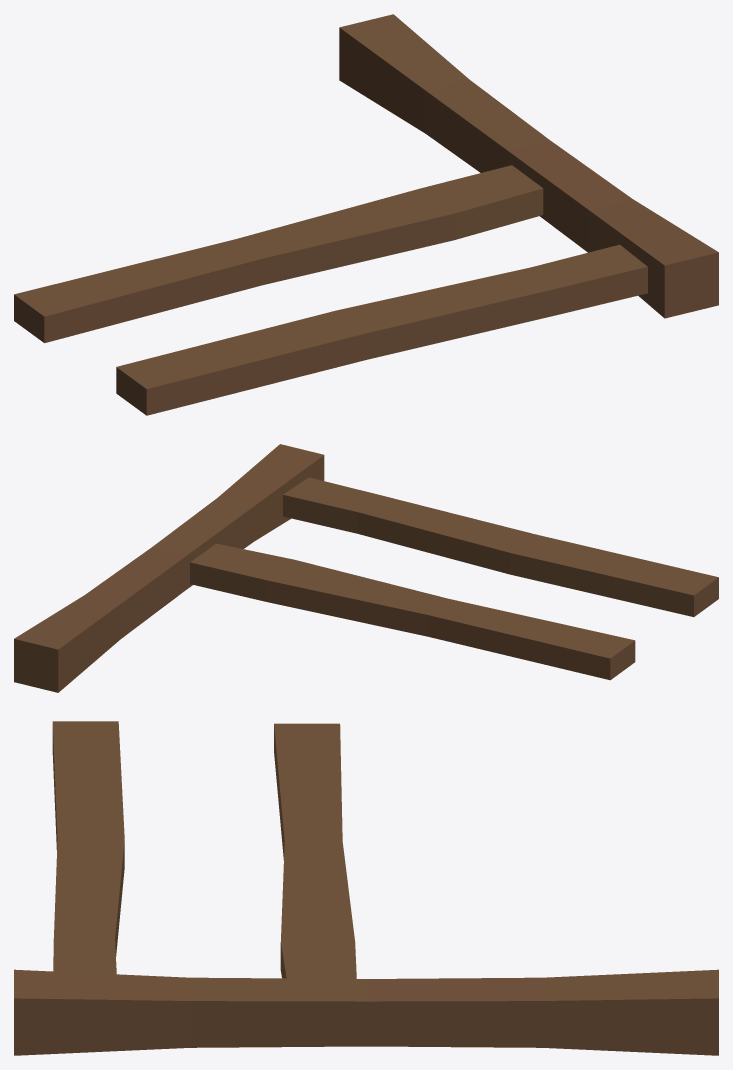
File: Right.fbx
3 views of the same model, one above another, from view 1: azimuth 30°, elevation 25°; view 2: azimuth 150°, elevation 25°; view 3: azimuth 270°, elevation 25° (orthographic). The views are drawn at different scales.
Visible parts, largest first — view 1: Barriere_2 bord droit; view 2: Barriere_2 bord droit; view 3: Barriere_2 bord droit.
Boxes of the visible parts, x1=… form: Barriere_2 bord droit: x1=14, y1=14, x2=718, y2=415; Barriere_2 bord droit: x1=14, y1=444, x2=718, y2=692; Barriere_2 bord droit: x1=14, y1=721, x2=718, y2=1055.
Bounding box in the file's own units: 98.62 × 9.01 × 100.
